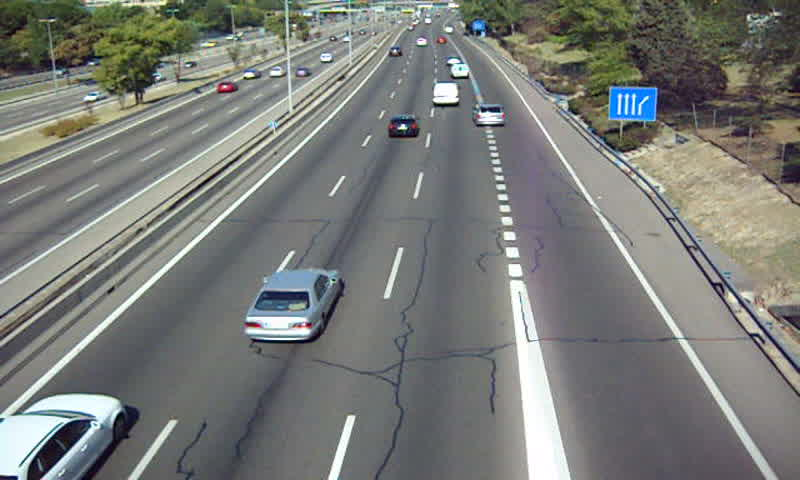car: (1, 394, 127, 480), (245, 267, 342, 342), (474, 103, 506, 128), (387, 114, 419, 139)
van: (432, 82, 460, 107), (452, 62, 469, 80)
